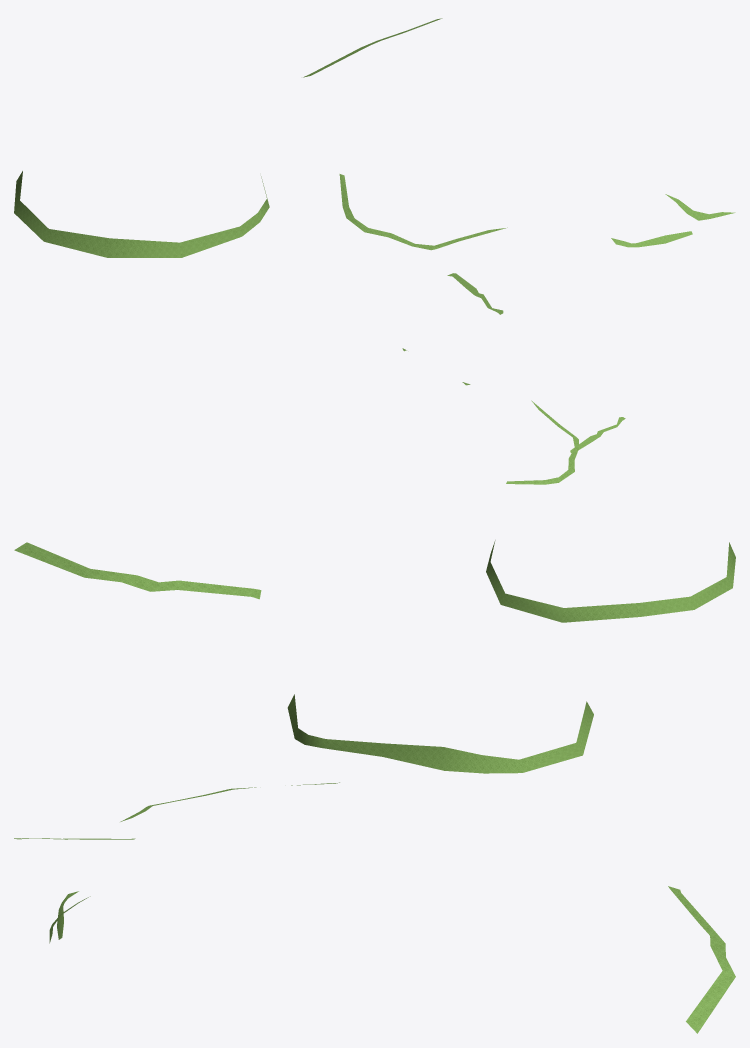
Rendered from kd_stage_1366d7_0_17.glb.
3 views of the same model, one above another, from view 1: azimuth 30°, elevation 25°; view 2: azimuth 150°, elevation 25°; view 3: azimuth 270°, elevation 25° (orthographic). The views are drawn at different scales.
Parts seen in each view (by area): view 1: kd_stage_1366d7_0_17; view 2: kd_stage_1366d7_0_17; view 3: kd_stage_1366d7_0_17.
Part boxes in pixels (<box>): kd_stage_1366d7_0_17: <box>14,18,735,314</box>; kd_stage_1366d7_0_17: <box>14,348,735,622</box>; kd_stage_1366d7_0_17: <box>14,694,735,1033</box>.
Size of the model in its own units: 179 by 14.37 by 156.
Materials: 1 (1 with a texture image).
